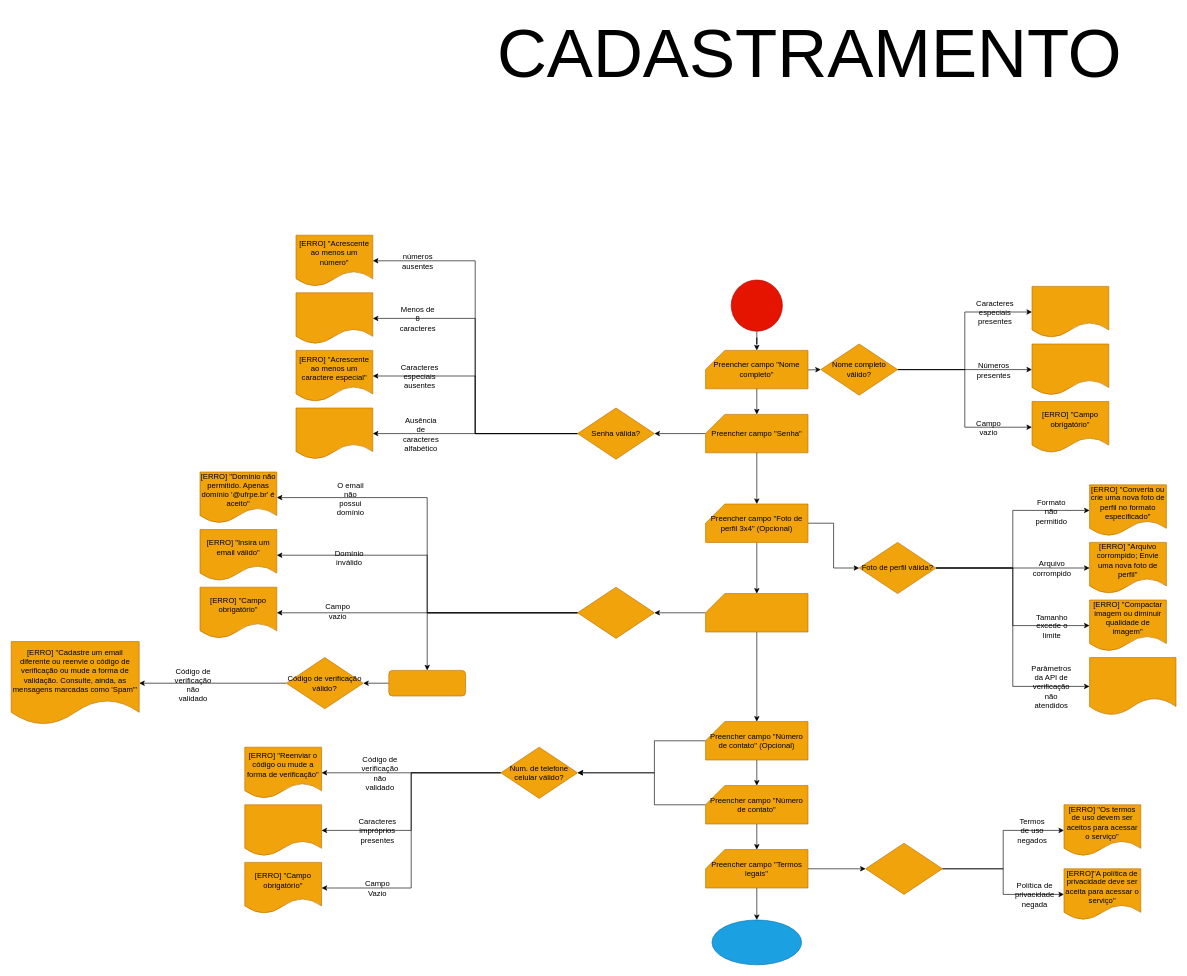
The diagram is 1187 pixels wide and 976 high, and some of its shapes have lost their labels. The centre of each missing label's shape, as x and y in pixels:
[ERRO] "A senha deve ter ao menos 8 caracteres": point (334, 318)
[ERRO] "Ponha ao menos um caractere alfabético": point (334, 433)
[ERRO] "Reenviar foto de perfil seguindo os parâmetros especificados": point (1132, 686)
[ERRO] "Remova caracteres diferente de número inteiro": point (283, 830)
[ERRO] "Remova o(s) caractere(s) especial/is": point (1070, 312)
[ERRO] "Remova o(s)números(s)": point (1070, 369)
Código de verificação: point (427, 683)
Email válido?: point (615, 612)
Encerrar processo: point (756, 942)
Preencher campo "Email": point (756, 612)
Realizar Cadastro: point (756, 305)
Termos legais aceitos?: point (903, 868)
